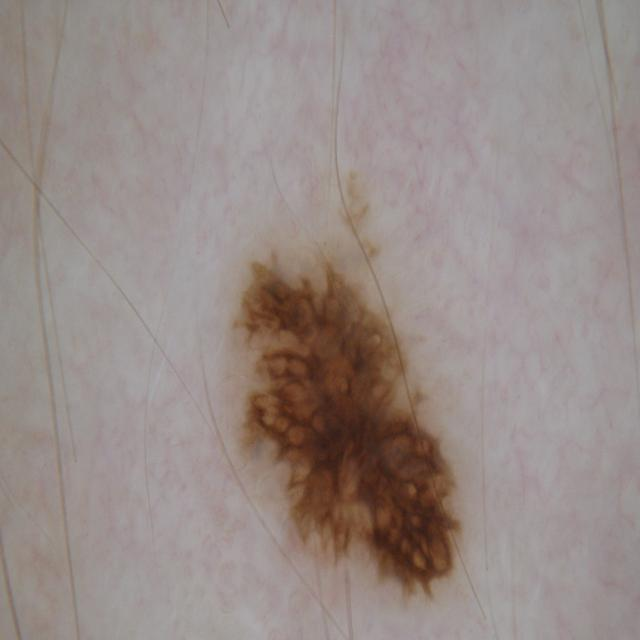Melanoma: (191, 202, 514, 606)
